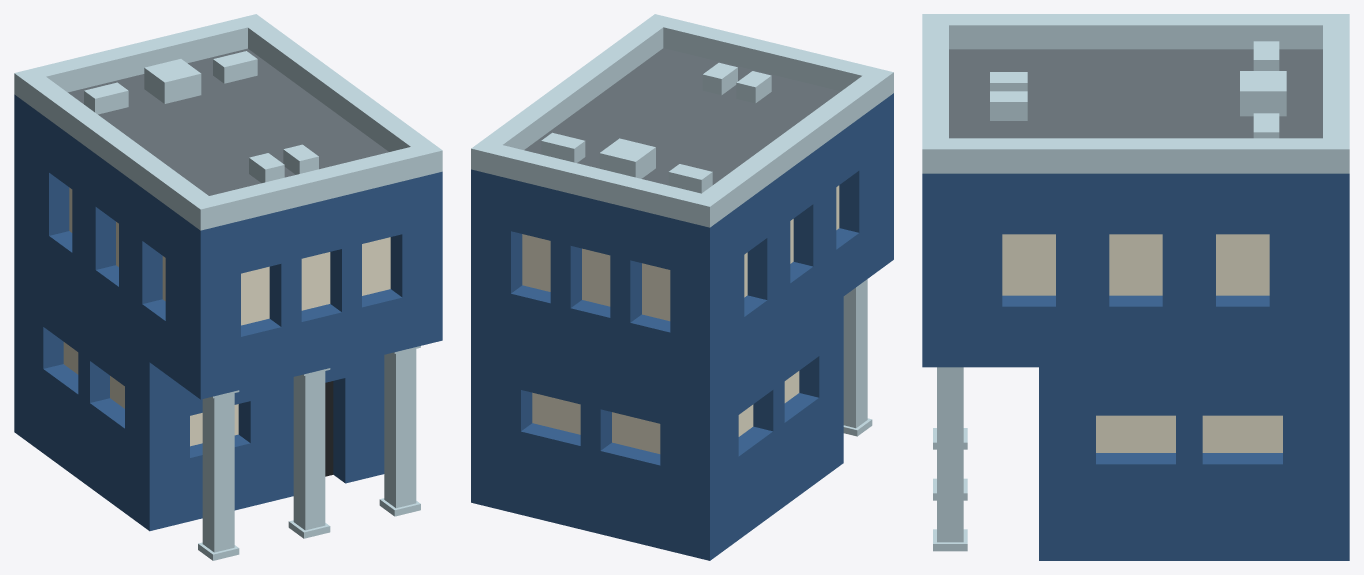
The model's file is Building_7_Extra (Blue).obj.
3 renders of one model, left to right at view 1: azimuth 30°, elevation 25°; view 2: azimuth 150°, elevation 25°; view 3: azimuth 270°, elevation 25°, orthographic. The views are drawn at different scales.
Parts seen in each view (by area): view 1: Building_7_Extra_(Blue); view 2: Building_7_Extra_(Blue); view 3: Building_7_Extra_(Blue).
Boxes of the visible parts, bbox=[...] form: Building_7_Extra_(Blue): bbox=[14, 14, 442, 560]; Building_7_Extra_(Blue): bbox=[471, 14, 893, 560]; Building_7_Extra_(Blue): bbox=[922, 14, 1349, 560].
Size of the model in its own units: 1.2 by 1.7 by 1.6.
